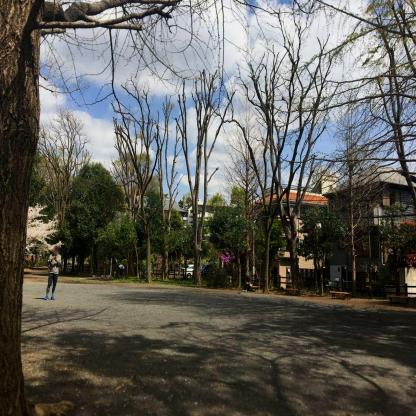Someiyoshino: (23, 202, 65, 258)
